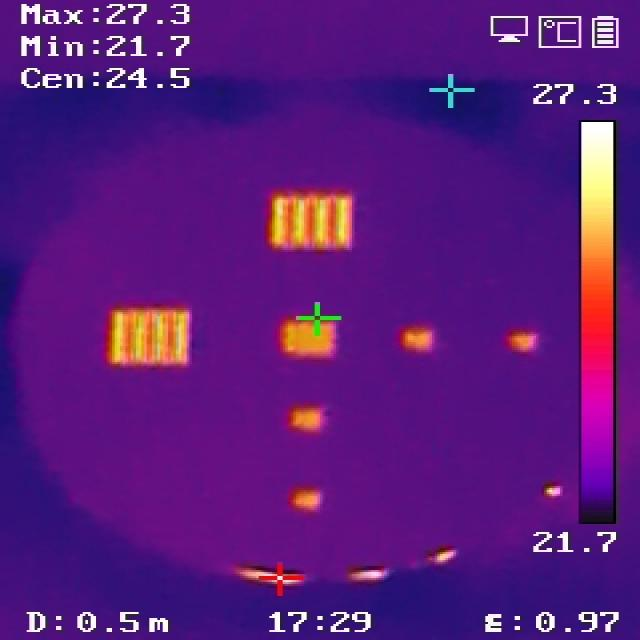Distinguishable 4-bar target: (108, 308, 196, 367), (267, 196, 352, 246)
Indistinguishable 4-bar target: (284, 322, 332, 354)
